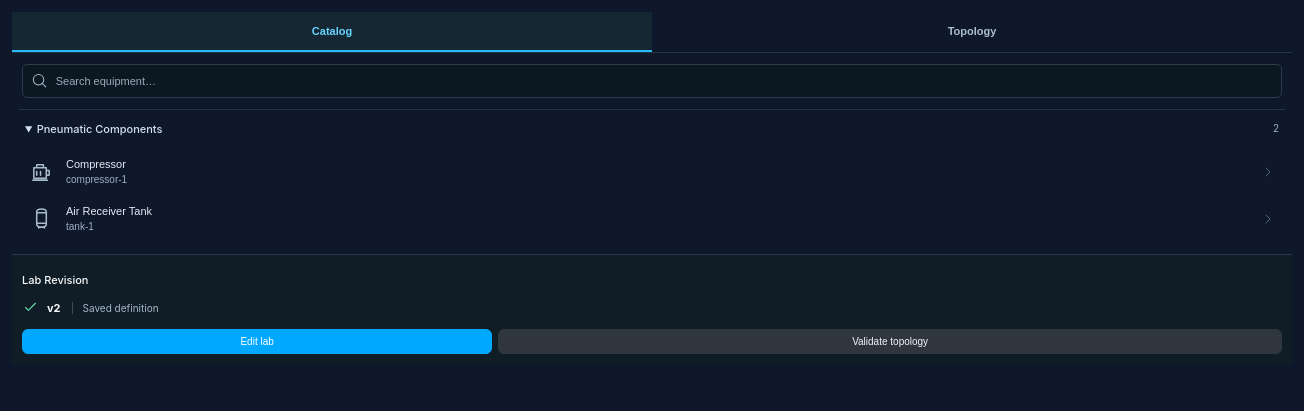
EquipmentCatalog › shows an actionable no-results state and clears the query
Type "not-present" into the search field at (664, 81), box [56,66,1272,96]
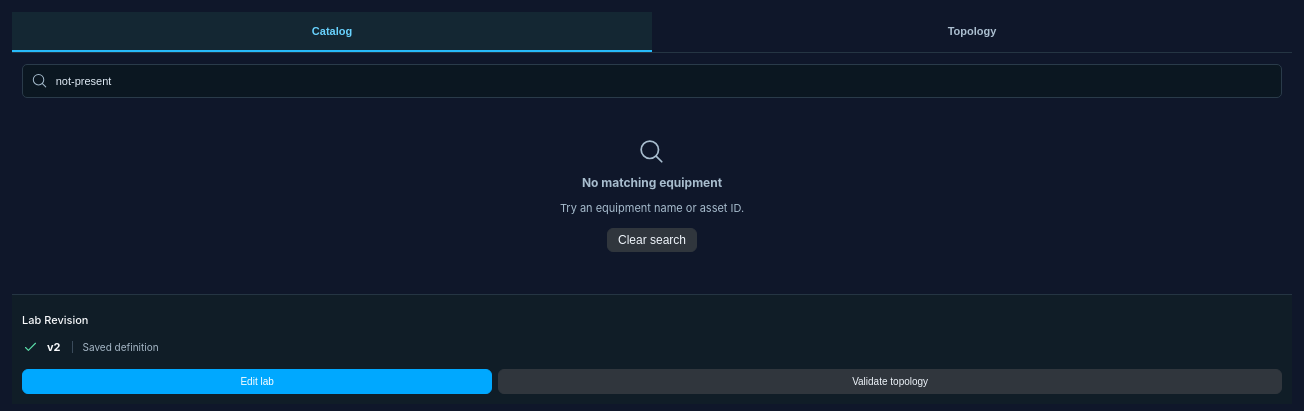
Expected: the text "No matching equipment" is shown, [582,175,722,190]
Click the button "Clear search" at (652, 240), box [607,228,697,252]
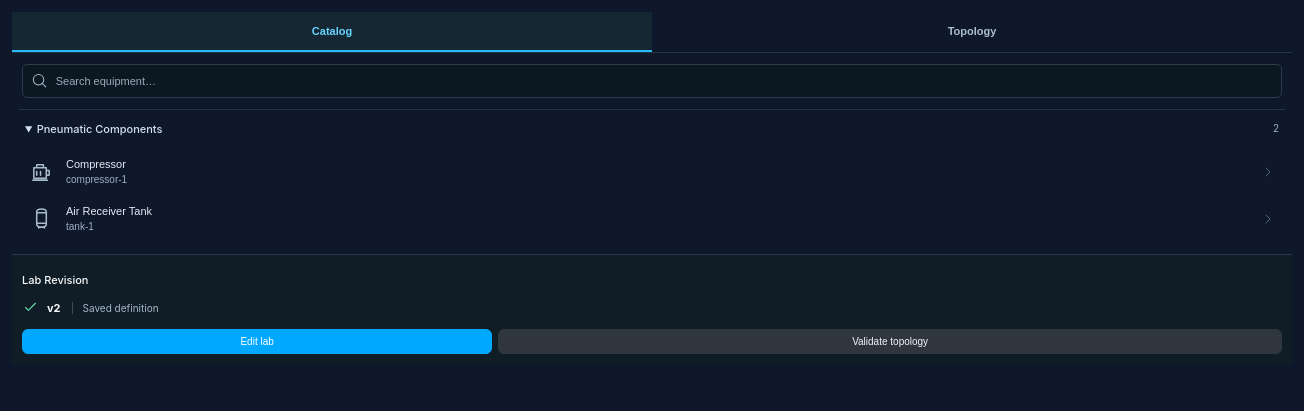
Expected: the button with aria-label "Select Compressor" is shown, [19,148,1285,195]
